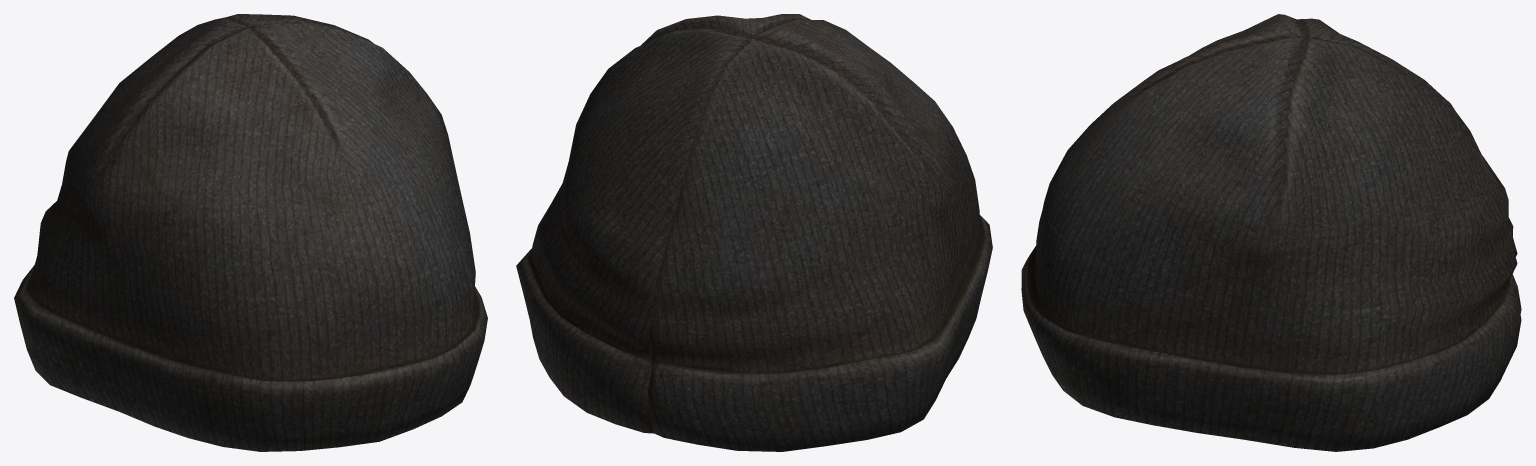
Rendered from Hat7.glb.
3 views of the same model, side by side, from view 1: azimuth 30°, elevation 25°; view 2: azimuth 150°, elevation 25°; view 3: azimuth 270°, elevation 25° (orthographic).
Visible parts, largest first — view 1: WinterHat; view 2: WinterHat; view 3: WinterHat.
Part boxes in pixels (x1,y1,x2,y2): WinterHat: (14,14,487,451); WinterHat: (516,14,992,451); WinterHat: (1021,14,1521,451).
Size of the model in its own units: 0.3948 by 0.3066 by 0.4134.
Materials: 1 (1 with a texture image).
